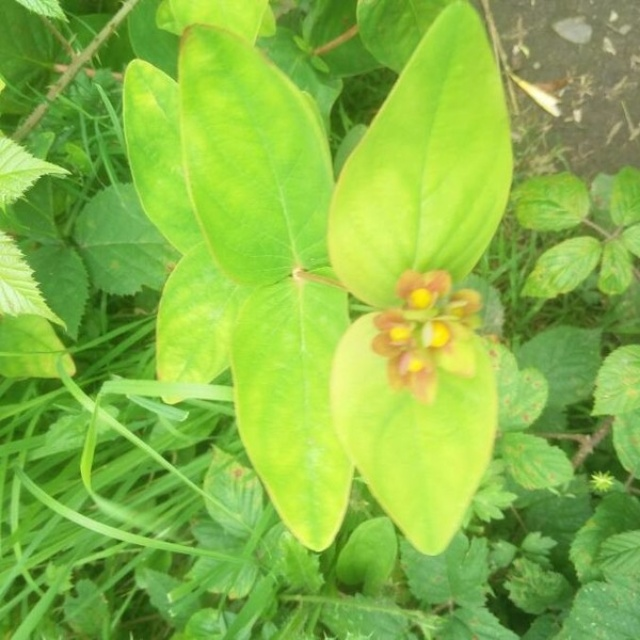obstacle: (99, 46, 567, 534)
